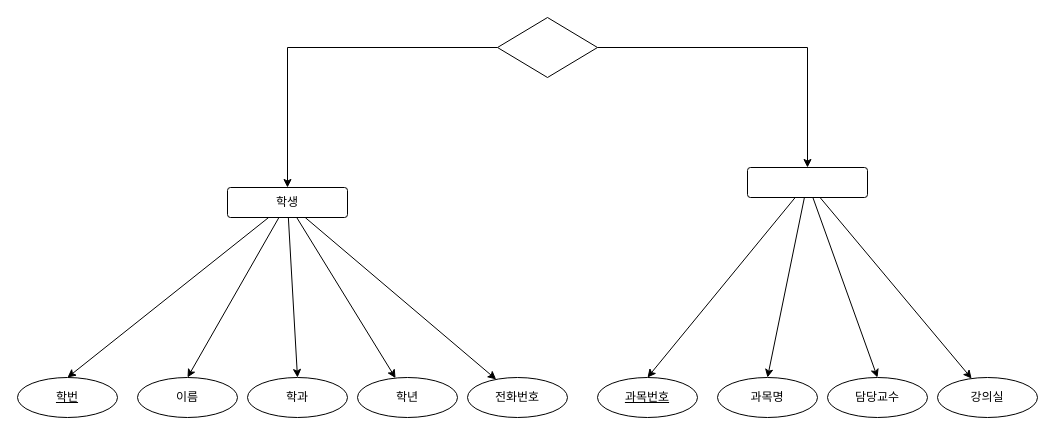
Image size: 1055x435. Some labels were removed from this diagram. The shapes that lost their labels are listed below. From the top down, each one's box as (x1, y1, x2, y2) in pixels, then its label:
(496, 16, 598, 78): 수강신청
(746, 166, 868, 198): 과목
